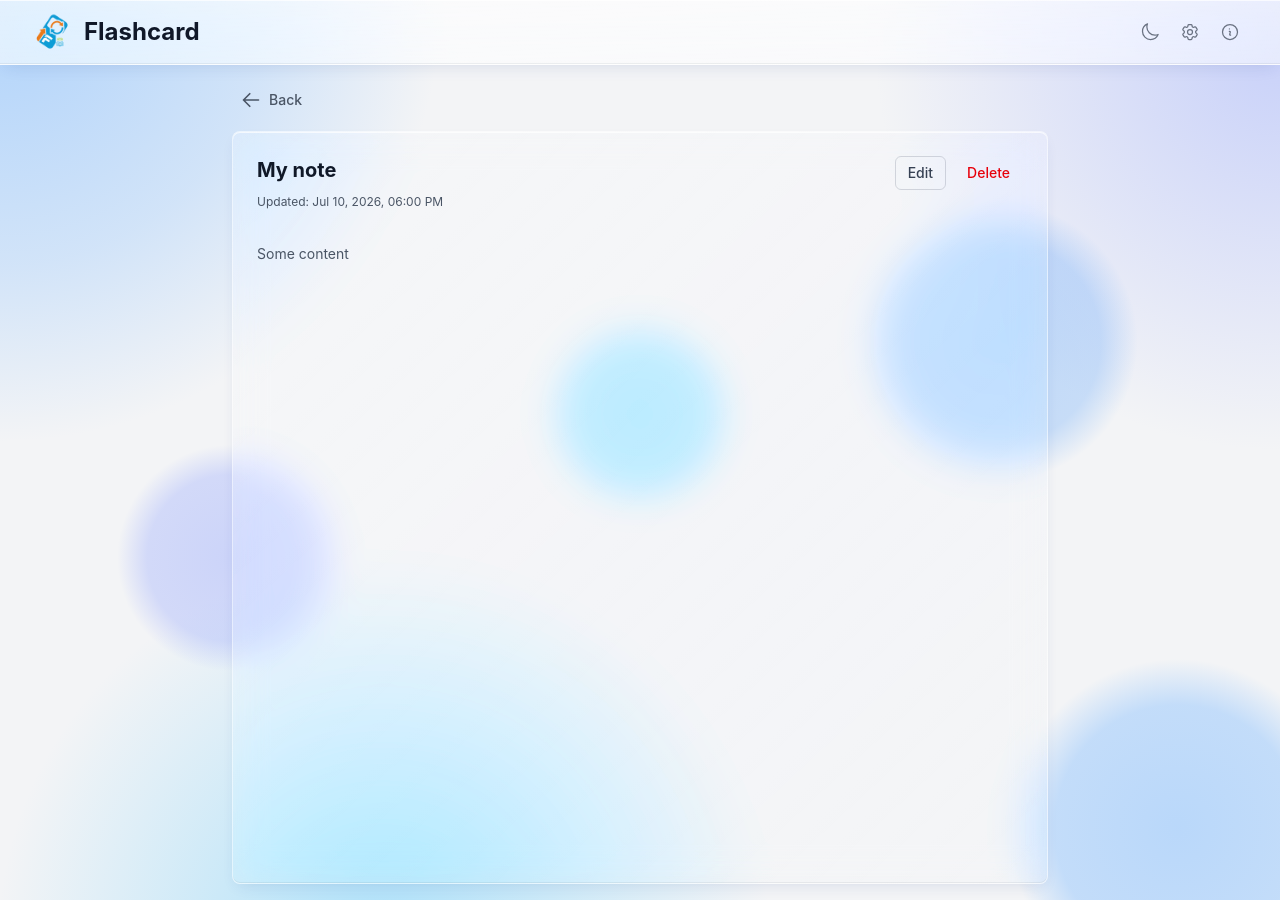
NoteDetailPage › cancels editing without saving
Expected: the heading "My note" is shown, [257,156,336,184]
Click the button "Edit": x=920, y=173 [895,156,946,190]
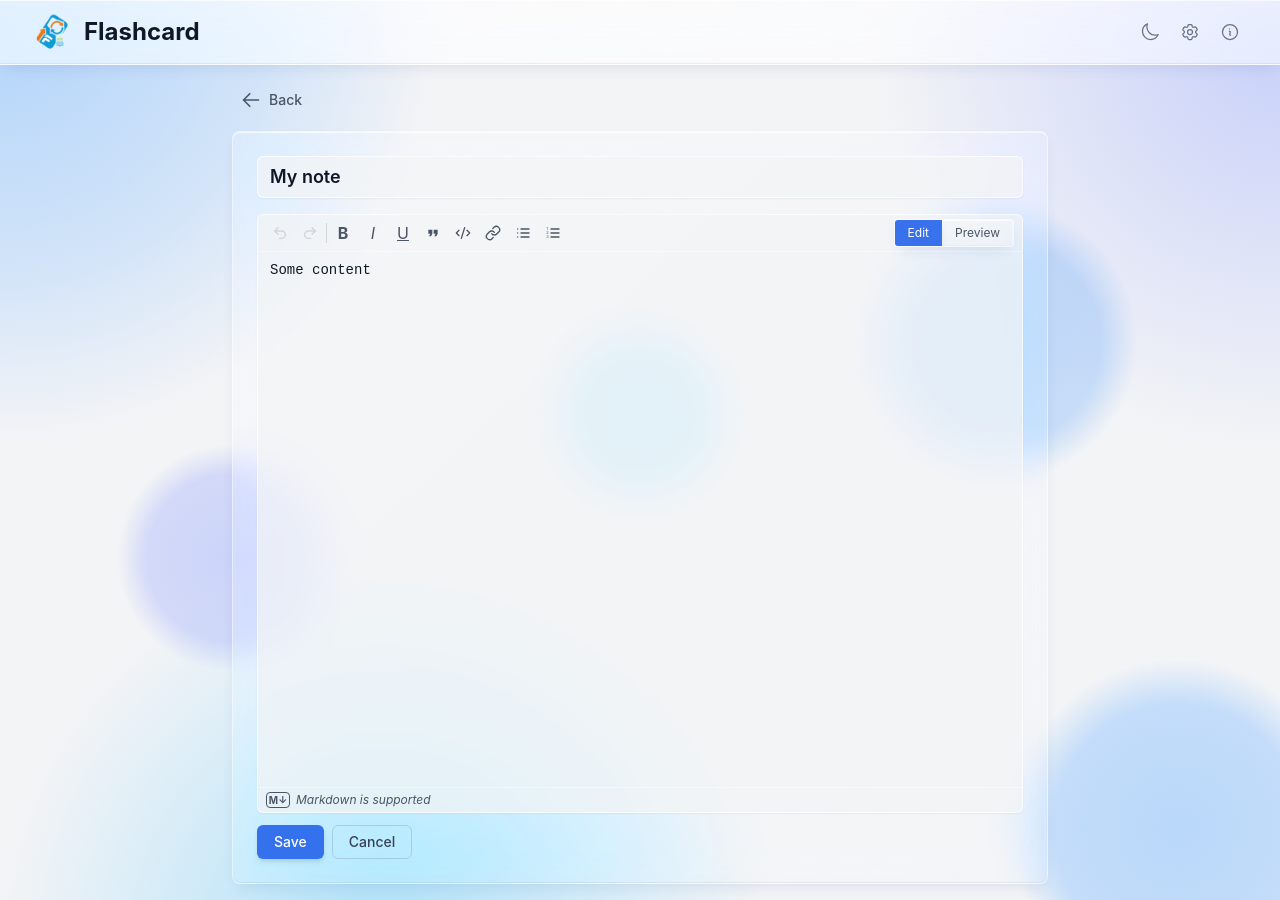
Replace the text in the field with placeholder "Note title" with "Discarded title": x=640, y=177 [257,156,1023,198]
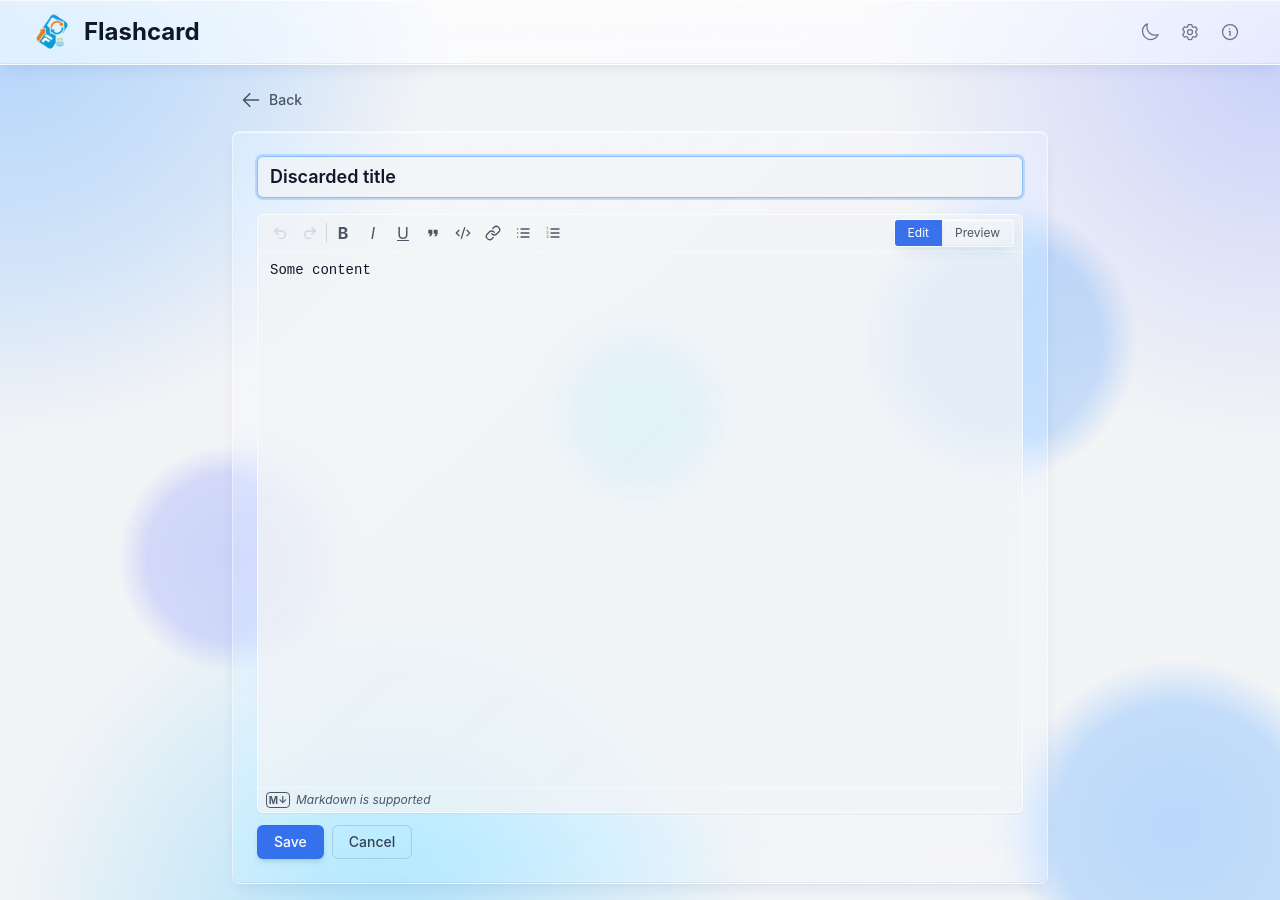
Click the button "Cancel": x=372, y=842 [332,825,412,859]
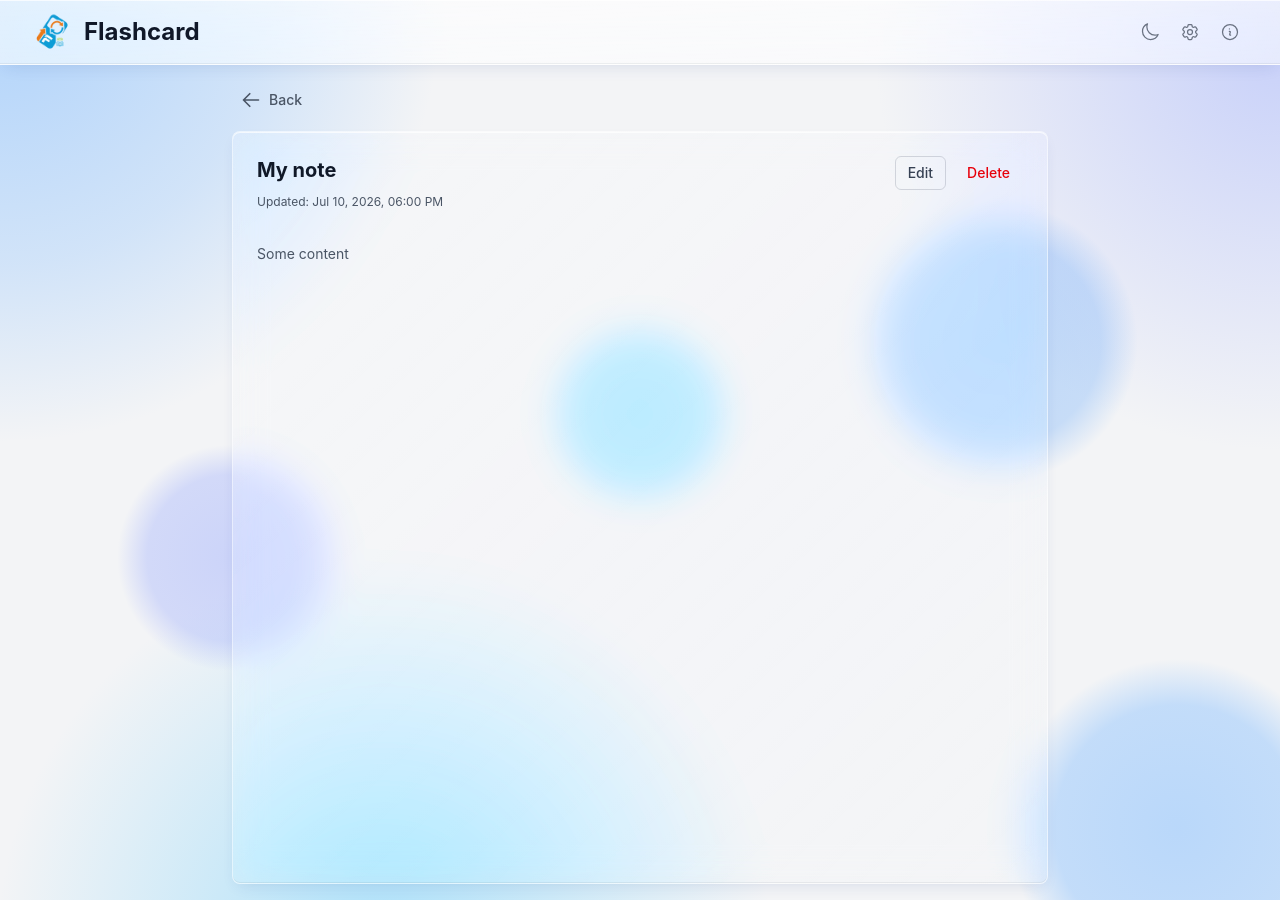
Result: the heading "My note" is shown at [257,156,336,184]
